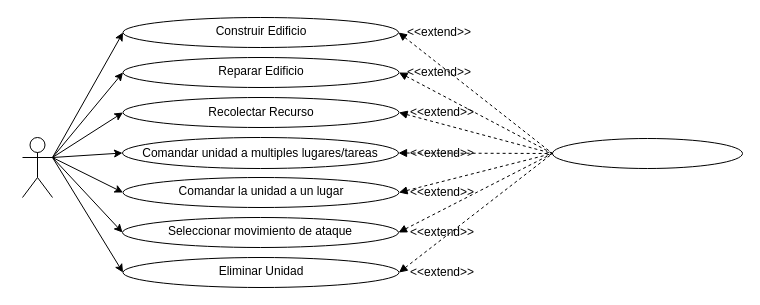
This 760x305 diagram has some shape labels left out. Each missing label, with the centre of its shape:
Seleccionar Unidad Económica: (647,153)
Usuario: (37,167)
